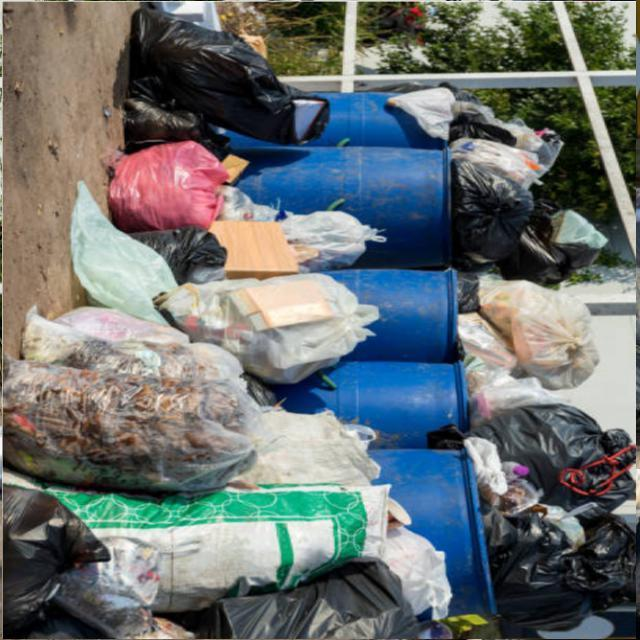Trashbag: (126, 4, 330, 164), (483, 511, 638, 623), (474, 402, 636, 506), (450, 154, 533, 276), (125, 227, 223, 277)
